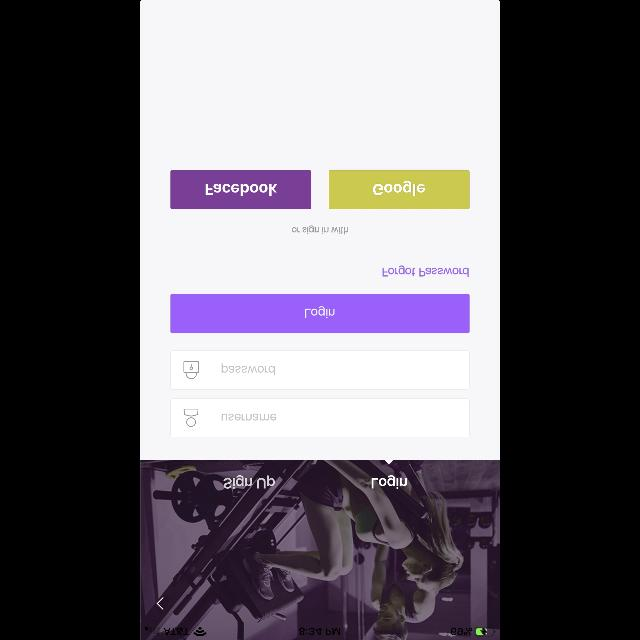icon: (184, 361, 200, 379), (184, 409, 198, 427), (156, 596, 164, 610)
image: (140, 460, 500, 640)
input: (170, 398, 470, 438), (170, 350, 470, 390)
text: (383, 266, 469, 276), (223, 475, 274, 489), (222, 363, 274, 375), (372, 475, 406, 489), (292, 226, 348, 234), (222, 414, 276, 421)
textbutton: (170, 294, 470, 332), (170, 170, 312, 210), (328, 170, 469, 210)
uppertaskbar: (140, 626, 500, 640)
